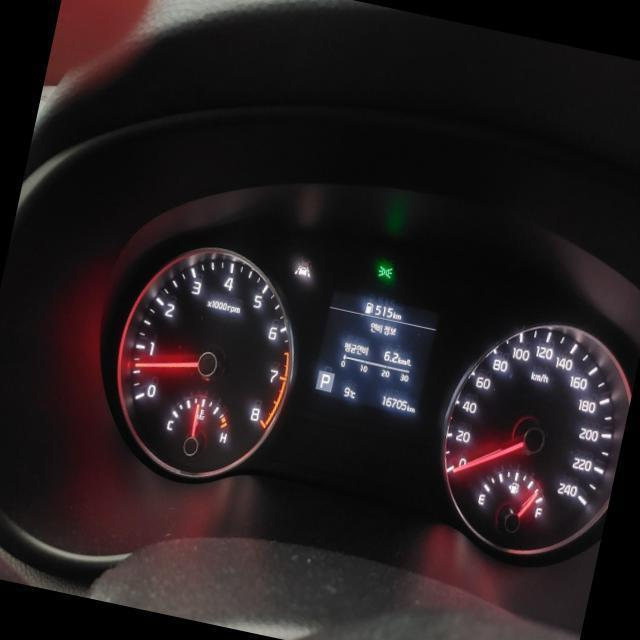LaneCenteringOff: (292, 261, 311, 278)
SideLamp: (376, 262, 393, 278)
